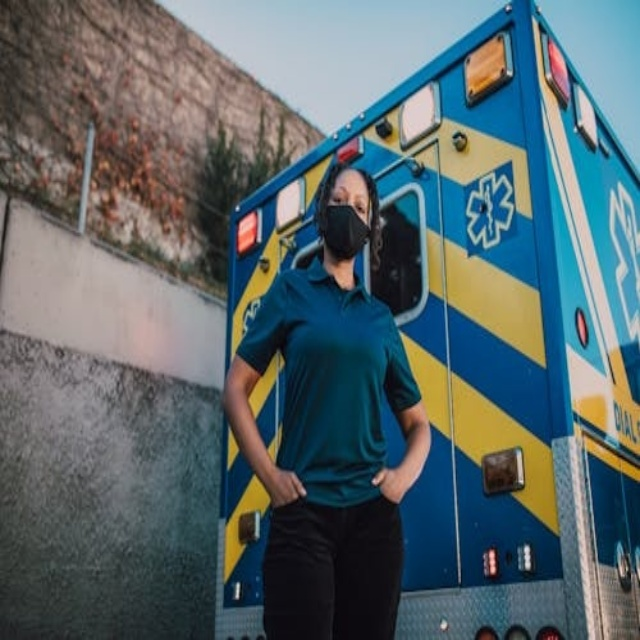Mascara: (322, 205, 370, 257)
Sin_gafas: (326, 183, 372, 217)
